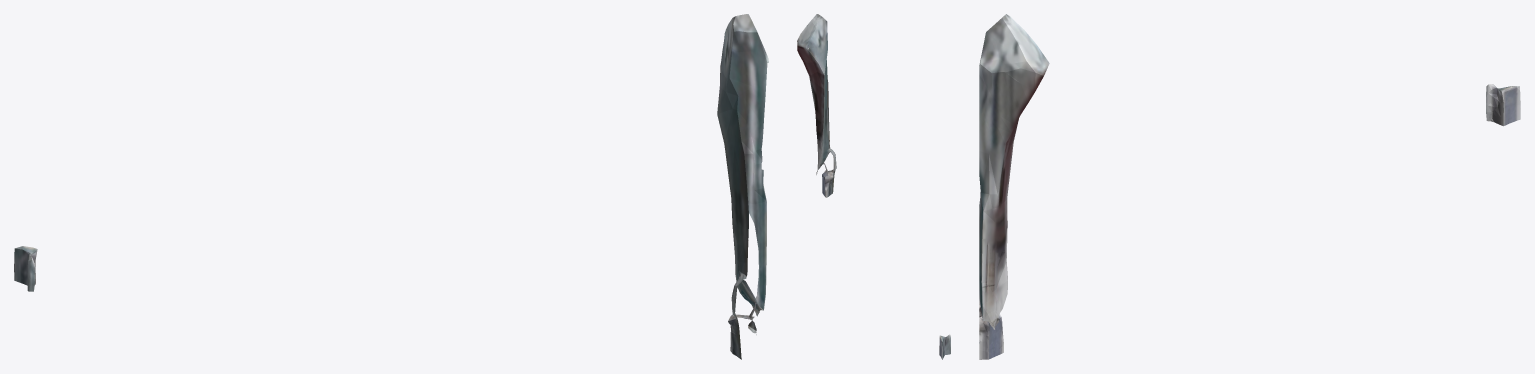
3 renders of one model, left to right at view 1: azimuth 30°, elevation 25°; view 2: azimuth 150°, elevation 25°; view 3: azimuth 270°, elevation 25°, orthographic. The views are drawn at different scales.
Size of the model in its own units: 3.82 by 2.42 by 3.46.
1 material, 1 textured.
